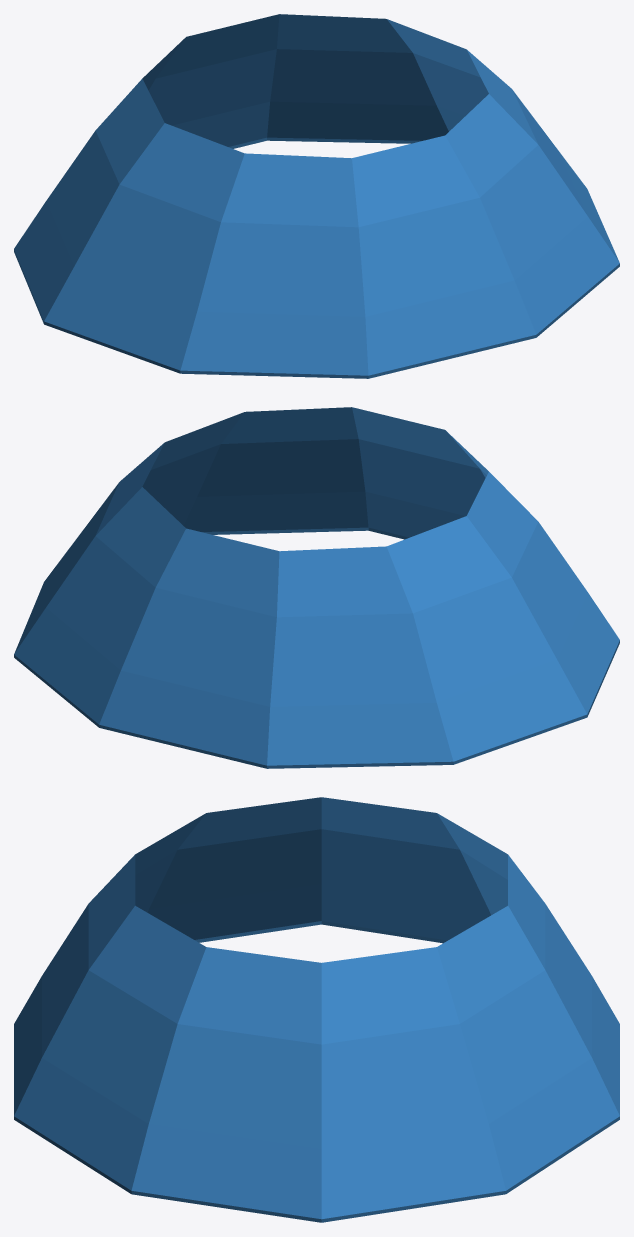
Rendered from robe_longue.glb.
3 renders of one model, top to bottom at view 1: azimuth 30°, elevation 25°; view 2: azimuth 150°, elevation 25°; view 3: azimuth 270°, elevation 25°, orthographic. The views are drawn at different scales.
Visible parts, largest first — view 1: robe_longue; view 2: robe_longue; view 3: robe_longue.
Boxes of the visible parts, x1,y1,x2,y2 form: robe_longue: (14, 14, 619, 378); robe_longue: (14, 407, 619, 768); robe_longue: (14, 797, 619, 1222).
Size of the model in its own units: 3.6 by 1.09 by 3.09.
1 material, 1 textured.
